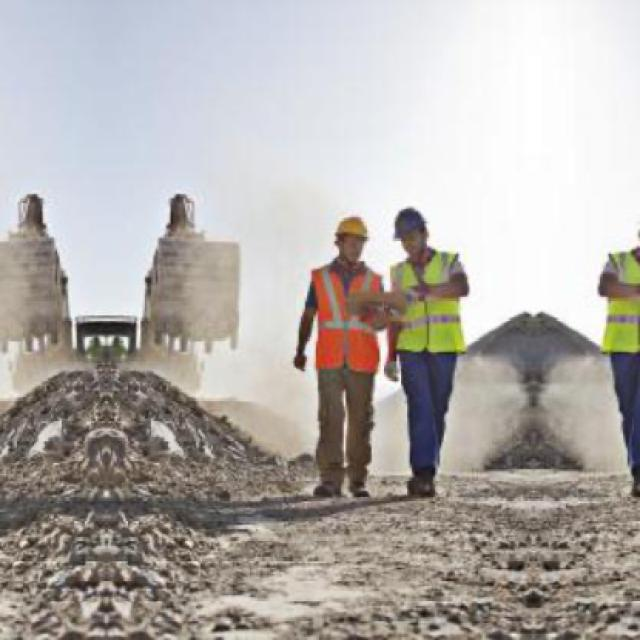con casco: (319, 214, 373, 290), (396, 201, 427, 270)
